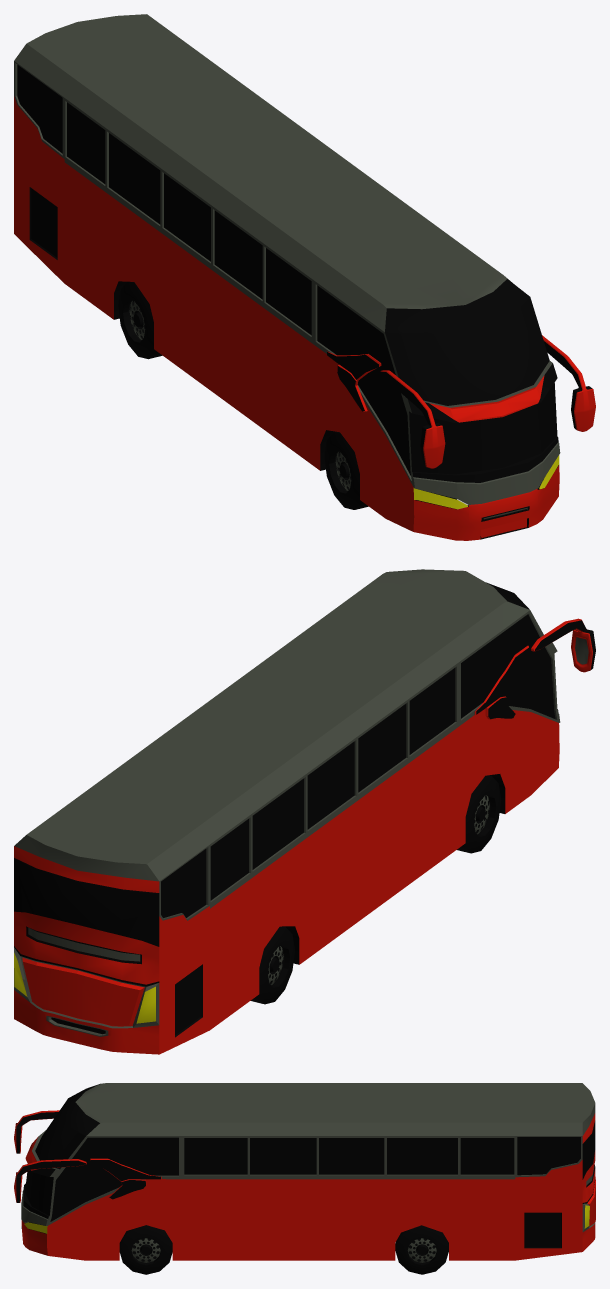
Rendered from bus.fbx.
3 renders of one model, top to bottom at view 1: azimuth 30°, elevation 25°; view 2: azimuth 150°, elevation 25°; view 3: azimuth 270°, elevation 25°, orthographic. The views are drawn at different scales.
Visible parts, largest first — view 1: polySurface3, polySurface1163, polySurface1224, polySurface64, polySurface1157, polySurface9, polySurface1211, polySurface1160, polySurface80, polySurface1210, polySurface1159, polySurface1248 (+9 smaller); view 2: polySurface1163, polySurface3, polySurface72, polySurface1224, polySurface1157, polySurface94, polySurface1211, polySurface5, polySurface1160, polySurface1210, polySurface1159, polySurface1248 (+9 smaller); view 3: polySurface2, polySurface3, polySurface153, polySurface38, polySurface30, polySurface32, polySurface31, polySurface33, polySurface102, ftyre, tyre1, polySurface29 (+10 smaller).
Boxes of the visible parts, x1,y1,x2,y2 form: polySurface3: (26,14,549,405); polySurface1163: (14,61,414,531); polySurface1224: (14,44,386,331); polySurface64: (409,383,557,474); polySurface1157: (317,285,410,475); polySurface9: (413,465,559,540); polySurface1211: (109,133,160,224); polySurface1160: (214,210,262,299); polySurface80: (413,443,560,504); polySurface1210: (164,173,210,261); polySurface1159: (266,248,311,335); polySurface1248: (17,65,62,153); polySurface1163: (159,610,560,1054); polySurface3: (27,569,529,864); polySurface72: (14,835,159,986); polySurface1224: (147,601,529,881); polySurface1157: (461,614,555,719); polySurface94: (23,962,139,1025); polySurface1211: (252,778,303,869); polySurface5: (77,983,159,1054); polySurface1160: (358,703,406,792); polySurface1210: (307,741,354,829); polySurface1159: (409,668,455,754); polySurface1248: (161,849,206,917); polySurface2: (46,1136,582,1260); polySurface3: (35,1083,595,1169); polySurface153: (86,1122,582,1135); polySurface38: (50,1137,178,1221); polySurface30: (387,1138,457,1174); polySurface32: (250,1138,316,1174); polySurface31: (319,1138,384,1174); polySurface33: (184,1138,247,1174); polySurface102: (517,1137,580,1175); ftyre: (119,1225,172,1274); tyre1: (395,1225,448,1274); polySurface29: (460,1138,514,1174).
Size of what is drawn, in the model's own units: 240 by 299 by 1047.
